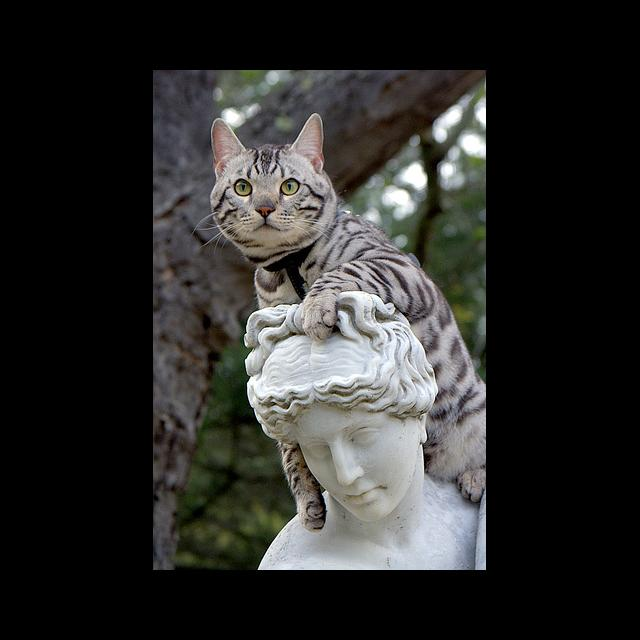animals: (218, 112, 320, 215)
